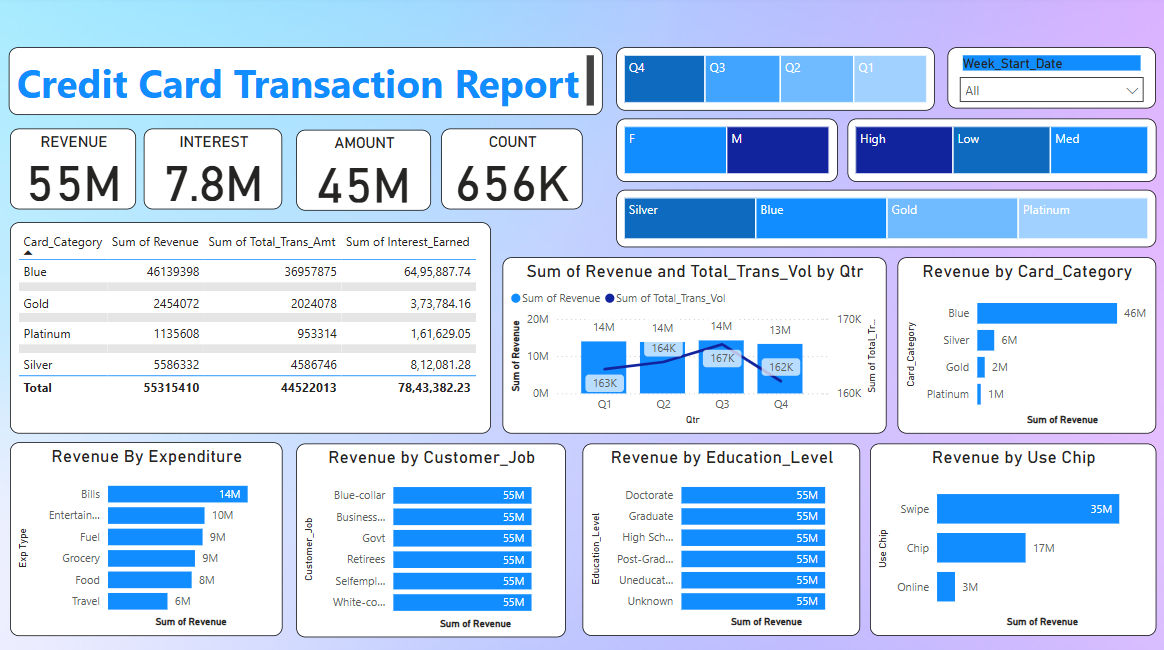

This screenshot's page, from the dashboard's own definition file:
{"tool":"powerbi","page":{"name":"Cc Transaction","canvas":[1280,720],"ordinal":1},"visuals":[{"type":"textbox","box":[9.6,56.3,651.8,74.1],"z":0},{"type":"lineStackedColumnComboChart","title":"Sum of Revenue and  Total_Trans_Vol by Qtr","fields":{"Category":["credit_card.Qtr"],"Y":["Sum(credit_card.Revenue)"],"Y2":["Sum(credit_card.Total_Trans_Vol)"]},"box":[551.6,286.8,421.3,193.5],"z":1000},{"type":"clusteredBarChart","title":"Revenue By Expenditure","fields":{"Y":["Sum(credit_card.Revenue)"],"Category":["credit_card.Exp Type"]},"box":[11,489.9,299.1,212.7],"z":2000},{"type":"clusteredBarChart","title":" Revenue by Customer_Job","fields":{"Y":["Sum(credit_card.Revenue)"],"Category":["cust_detail.Customer_Job"]},"box":[325.2,491.3,296.4,212.7],"z":3000},{"type":"clusteredBarChart","title":"Revenue by Education_Level","fields":{"Y":["Sum(credit_card.Revenue)"],"Category":["cust_detail.Education_Level"]},"box":[639.5,491.3,304.6,211.3],"z":4000},{"type":"clusteredBarChart","title":"Revenue by Card_Category","fields":{"Y":["Sum(credit_card.Revenue)"],"Category":["credit_card.Card_Category"]},"box":[985.3,286.8,284,193.5],"z":5000},{"type":"clusteredBarChart","title":" Revenue by Use Chip","fields":{"Y":["Sum(credit_card.Revenue)"],"Category":["credit_card.Use Chip"]},"box":[955.1,491.3,314.2,211.3],"z":6000},{"type":"tableEx","fields":{"Values":["credit_card.Card_Category","Sum(credit_card.Revenue)","Sum(credit_card.Total_Trans_Amt)","Sum(credit_card.Interest_Earned)"]},"box":[11,248.4,528.3,231.9],"z":7000},{"type":"card","title":"REVENUE","fields":{"Values":["Sum(credit_card.Revenue)"]},"box":[11,145.5,138.6,89.2],"z":8000},{"type":"card","title":"INTEREST","fields":{"Values":["Sum(credit_card.Interest_Earned)"]},"box":[157.8,145.5,152.3,89.2],"z":9000},{"type":"card","title":"AMOUNT","fields":{"Values":["Sum(credit_card.Total_Trans_Amt)"]},"box":[325.2,146.8,148.2,89.2],"z":10000},{"type":"card","title":"COUNT","fields":{"Values":["Sum(credit_card.Total_Trans_Vol)"]},"box":[484.4,145.5,155.1,89.2],"z":11000},{"type":"slicer","fields":{"Values":["credit_card.Week_Start_Date"]},"box":[1040.1,56.3,229.2,67.2],"z":12000},{"type":"treemap","fields":{"Group":["credit_card.Qtr"],"Values":["Sum(credit_card.Client_Num)"]},"box":[676.5,56.3,349.9,70],"z":13000},{"type":"treemap","fields":{"Group":["cust_detail.Gender"],"Values":["Sum(credit_card.Client_Num)"]},"box":[676.5,134.5,242.9,70],"z":14000},{"type":"treemap","fields":{"Values":["Avg(credit_card.Client_Num)"],"Group":["credit_card.Card_Category"]},"box":[676.5,212.7,592.8,63.1],"z":15000},{"type":"treemap","fields":{"Group":["cust_detail.IncomeGroup"],"Values":["Avg(credit_card.Client_Num)"]},"box":[930.4,134.5,338.9,70],"z":16000}]}

Visuals, with their boxes in screenshot pixels (x1, y1, x2, y2), scaled from the page's 1280x720 canvas onto the 1164x650 screenshot:
textbox: 9, 51, 601, 118
"Sum of Revenue and  Total_Trans_Vol by Qtr" lineStackedColumnComboChart: 502, 259, 885, 434
"Revenue By Expenditure" clusteredBarChart: 10, 442, 282, 634
" Revenue by Customer_Job" clusteredBarChart: 296, 444, 565, 636
"Revenue by Education_Level" clusteredBarChart: 582, 444, 859, 634
"Revenue by Card_Category" clusteredBarChart: 896, 259, 1154, 434
" Revenue by Use Chip" clusteredBarChart: 869, 444, 1154, 634
tableEx - credit_card.Card_Category x Sum(credit_card.Revenue): 10, 224, 490, 434
"REVENUE" card: 10, 131, 136, 212
"INTEREST" card: 143, 131, 282, 212
"AMOUNT" card: 296, 133, 430, 213
"COUNT" card: 441, 131, 582, 212
slicer - credit_card.Week_Start_Date: 946, 51, 1154, 111
treemap - credit_card.Qtr x Sum(credit_card.Client_Num): 615, 51, 933, 114
treemap - cust_detail.Gender x Sum(credit_card.Client_Num): 615, 121, 836, 185
treemap - Avg(credit_card.Client_Num) x credit_card.Card_Category: 615, 192, 1154, 249
treemap - cust_detail.IncomeGroup x Avg(credit_card.Client_Num): 846, 121, 1154, 185
